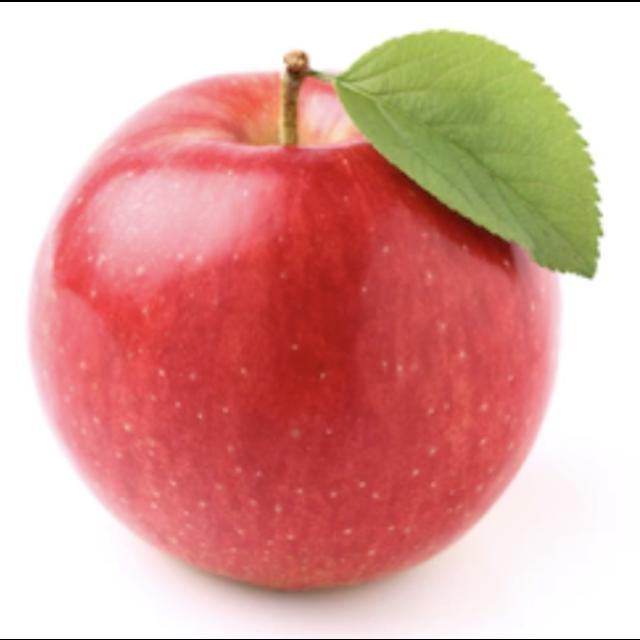Apel Segar: (36, 68, 562, 596)
